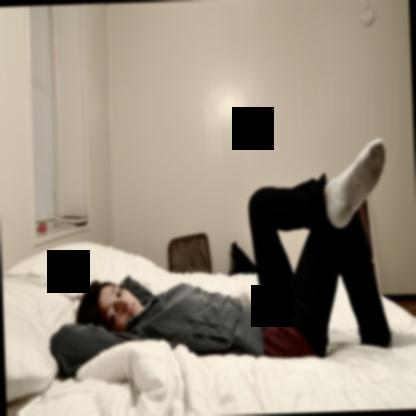backpack: (228, 241, 257, 274)
suitcase: (166, 230, 214, 272)
